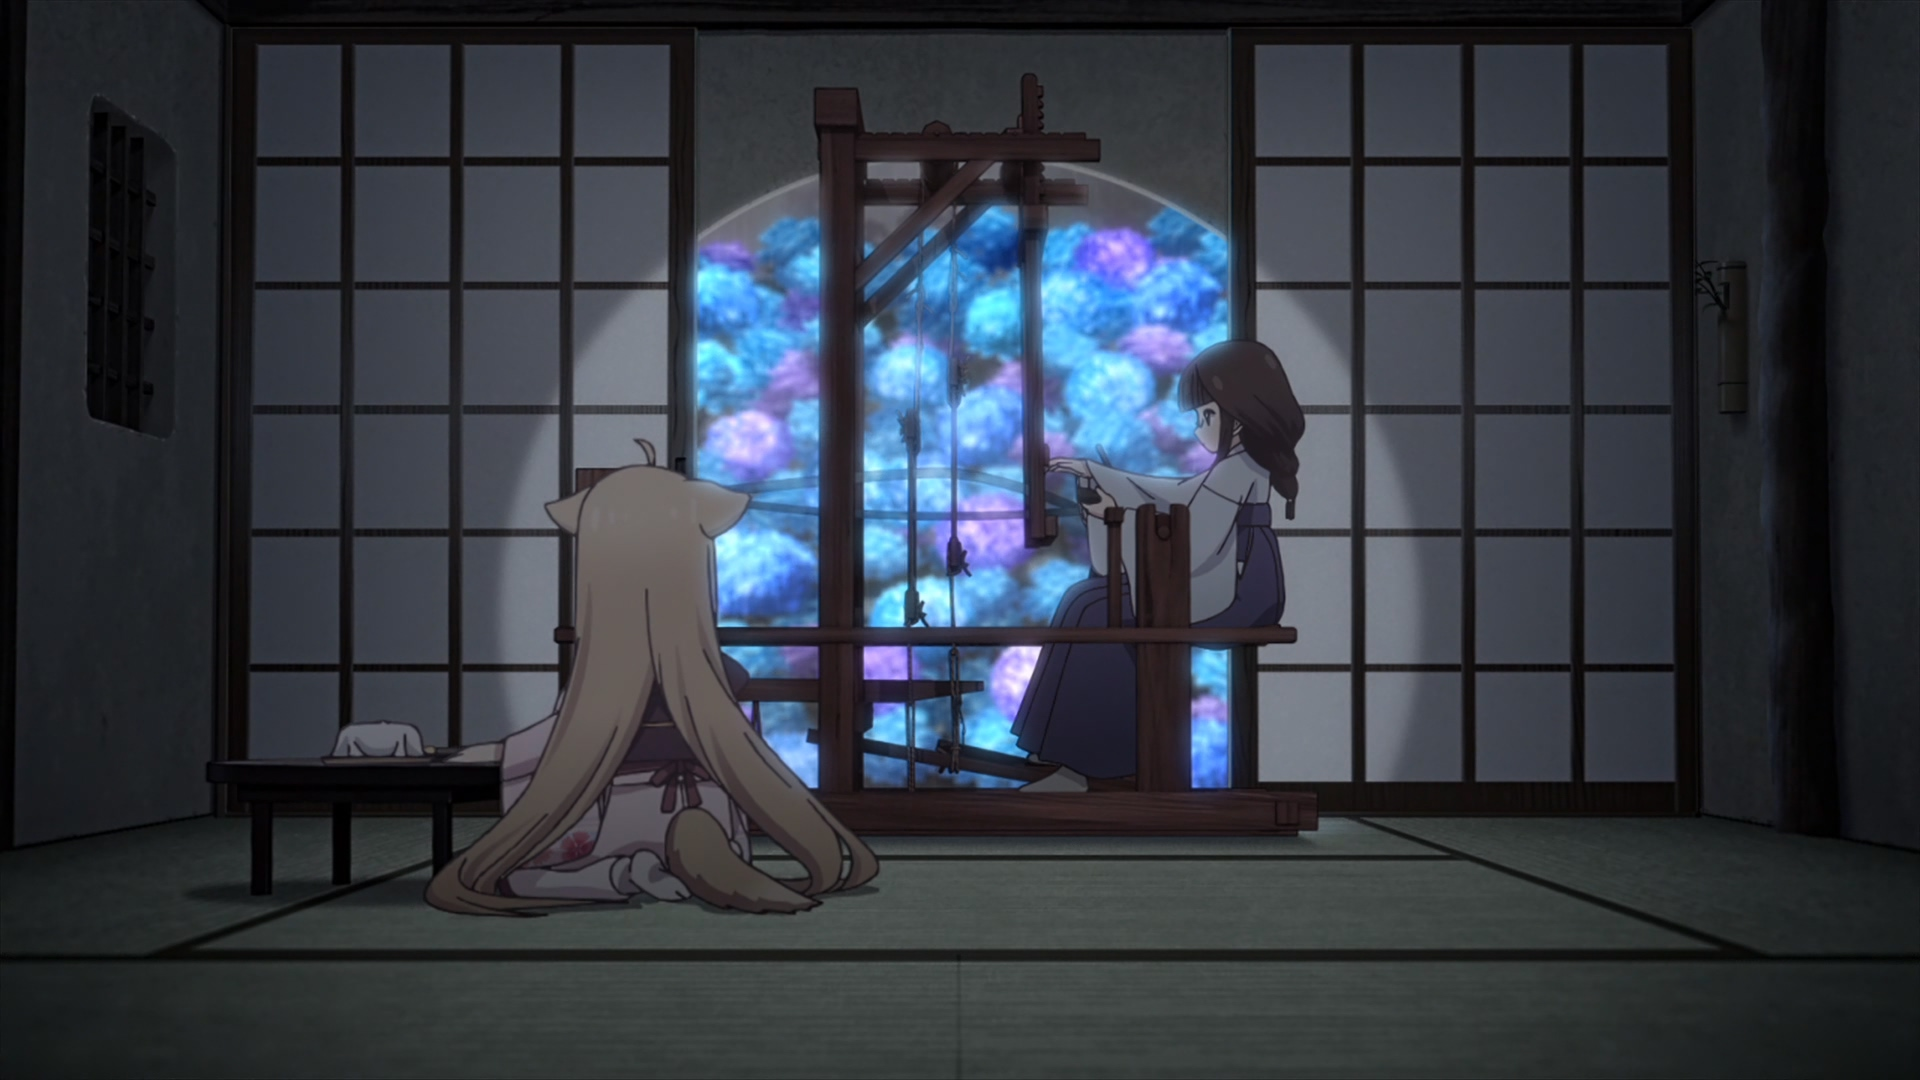其他: (1010, 338, 1309, 796)
柚: (429, 436, 882, 920)
